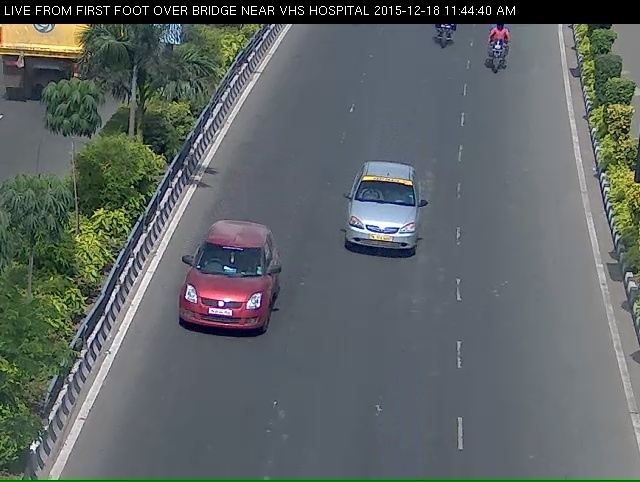Car: (161, 234, 278, 377), (336, 167, 431, 285)
Person: (484, 30, 515, 86)
